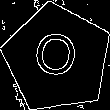O_S: (32, 29, 83, 87)
